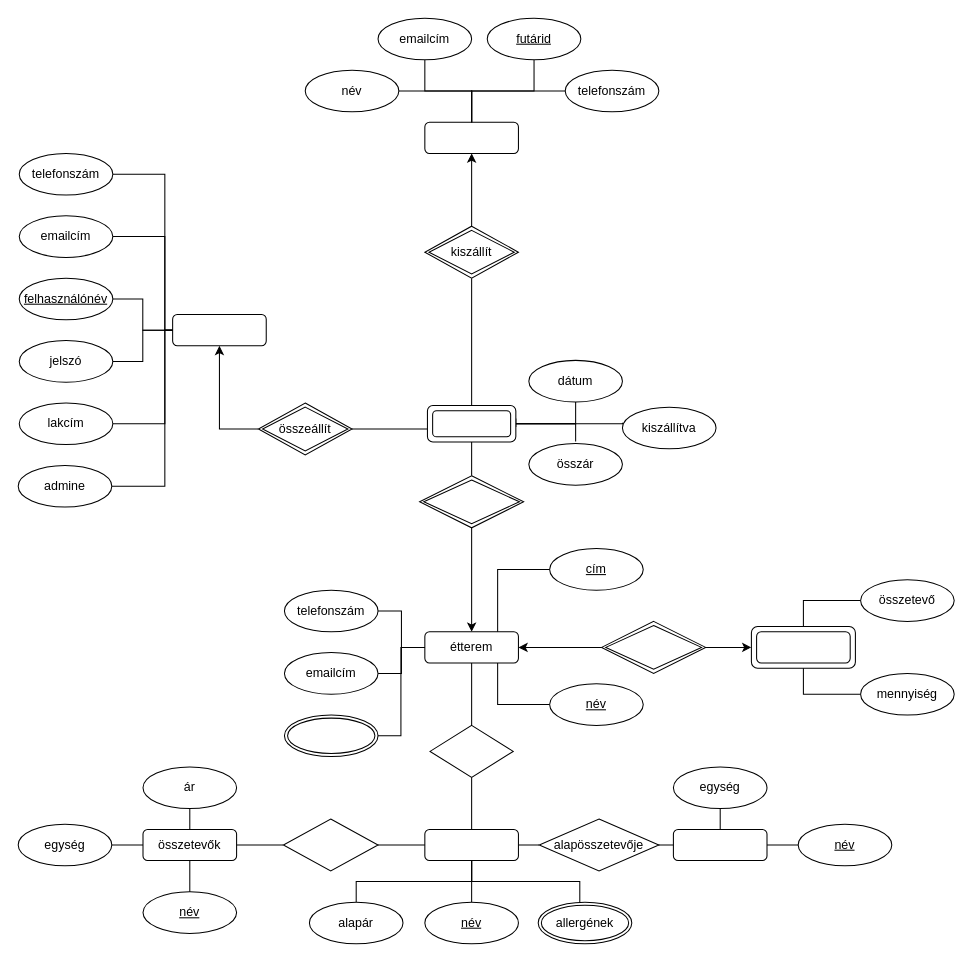
Some shapes in this 972 by 962 pixel diagram are drawn without their labels. The shapes that lost their labels are listed below. From the top down, each one's centre as x and y in pixels, then its label:
At point 471,137: "futár".
At point 219,330: "felhasználó".
At point 471,423: "kosár".
At point 471,501: "feldolgozás".
At point 653,646: "birtokol".
At point 802,647: "raktár".
At point 330,735: "ételtípusok".
At point 471,750: "elkészítés".
At point 330,844: "összetevője".
At point 471,844: "termék".
At point 719,844: "alapösszetevők".
